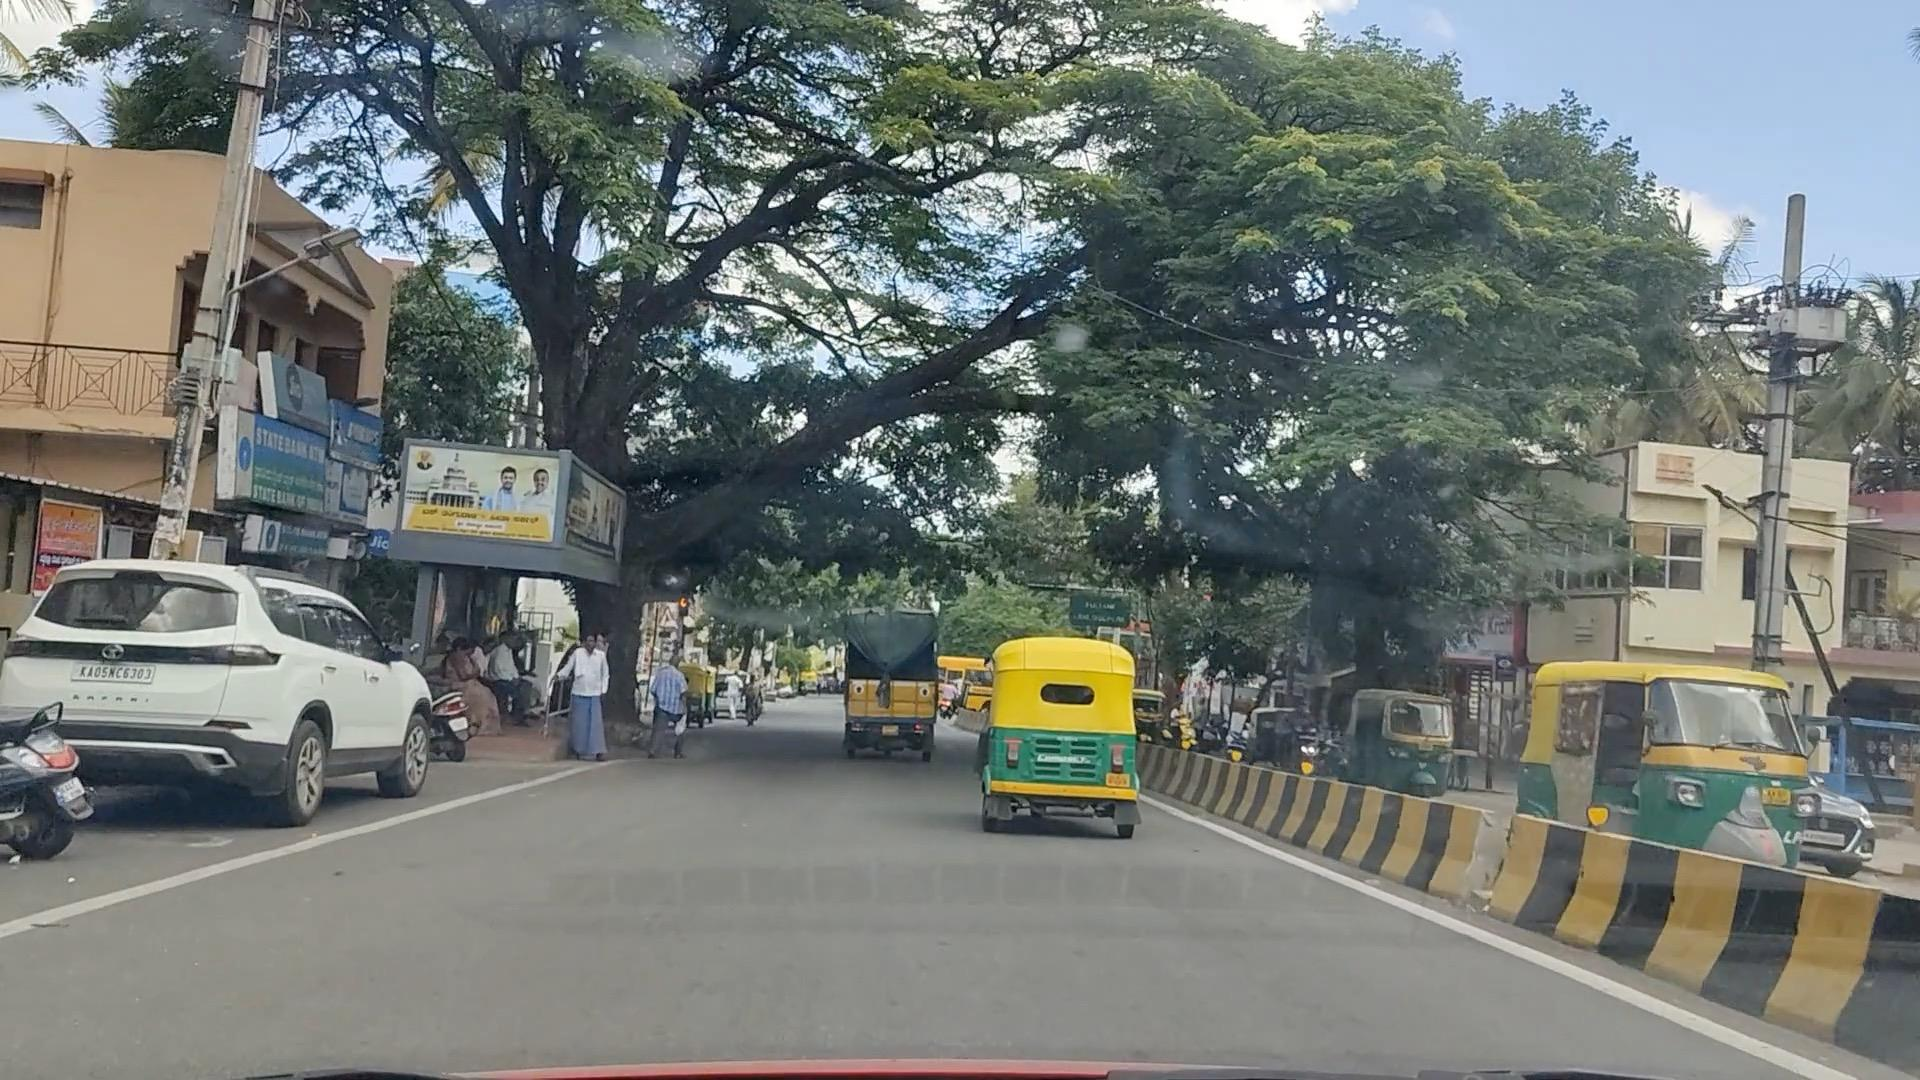HMV: (848, 611, 938, 762)
LMV: (990, 647, 1133, 818)
